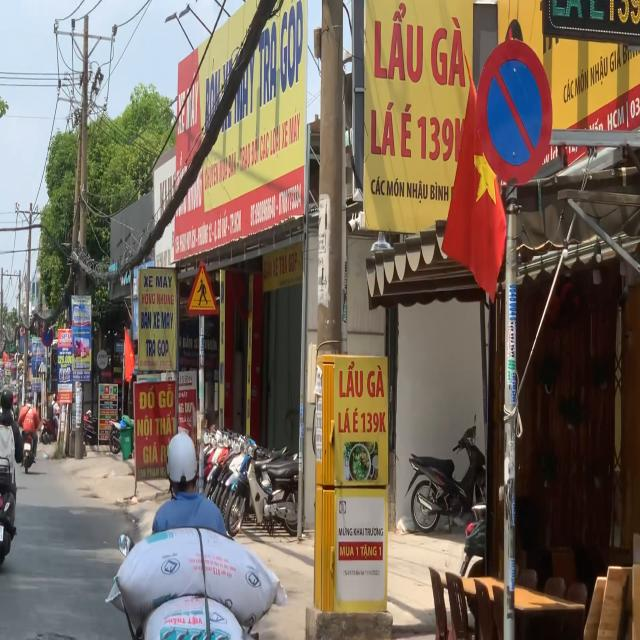Cam do: (476, 40, 553, 187)
Nguoi di bo cat ngang: (186, 258, 220, 316)
